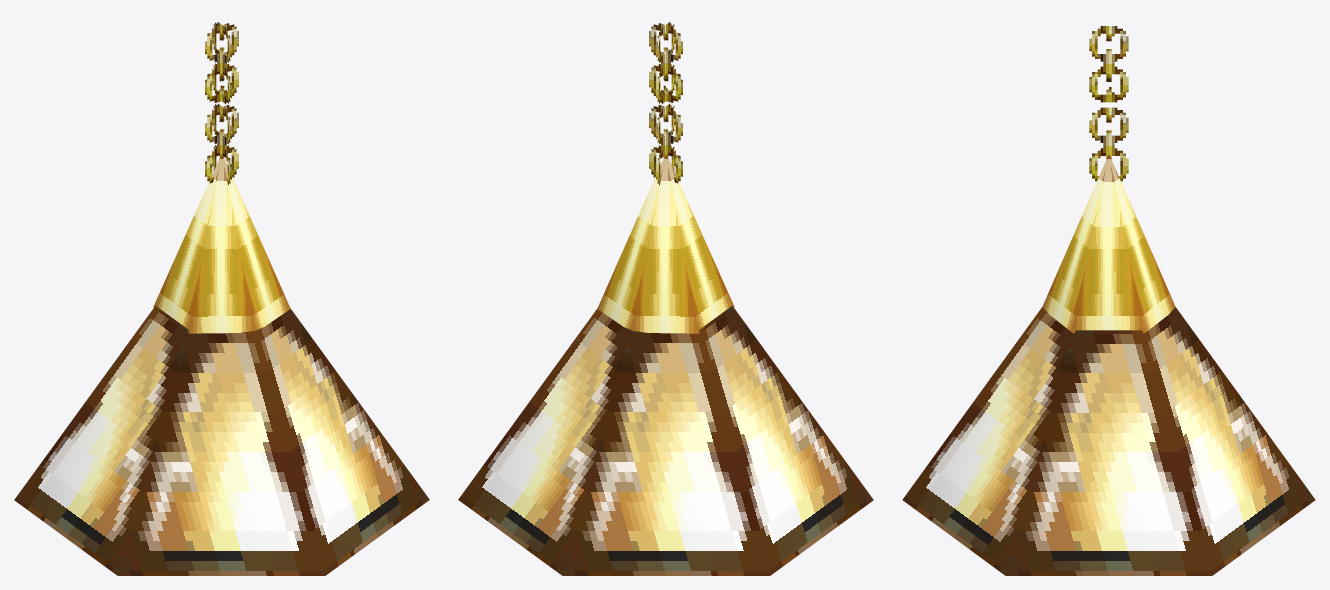
File: syan8-1.glb
The picture shows the model from 3 angles, left to right: view 1: azimuth 30°, elevation 25°; view 2: azimuth 150°, elevation 25°; view 3: azimuth 270°, elevation 25°; orthographic projection.
Visible parts, largest first — view 1: syan8_1; view 2: syan8_1; view 3: syan8_1.
Part boxes in pixels (x1=…): syan8_1: x1=14, y1=22, x2=429, y2=575; syan8_1: x1=458, y1=22, x2=873, y2=575; syan8_1: x1=902, y1=26, x2=1315, y2=575.
Bounding box in the file's own units: 80 × 122 × 92.
Materials: 4 (4 with a texture image).
